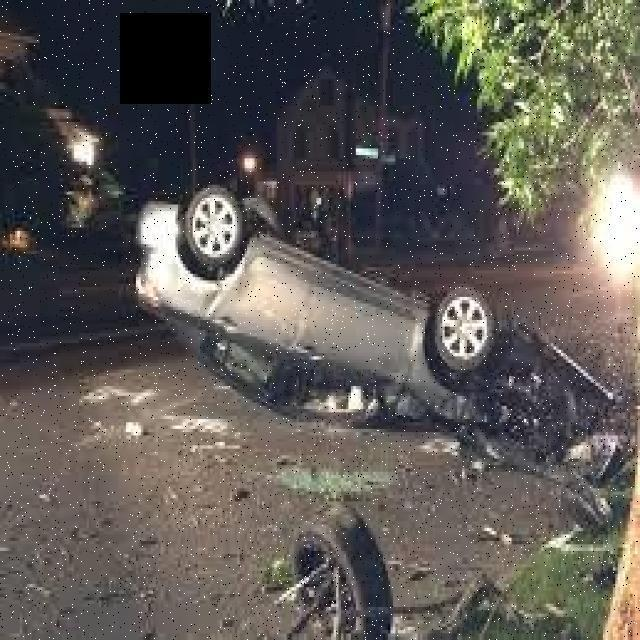single accident: (100, 175, 640, 514)
